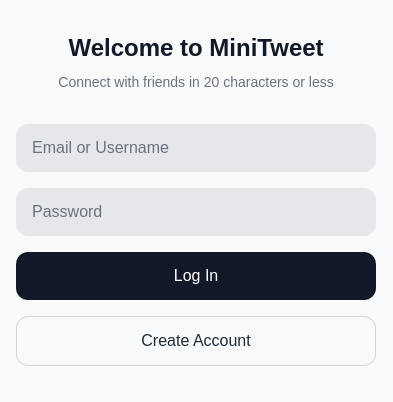
it: LoginView.vue › displays error message when login fails
In the field with placeholder "Email or Username": (196, 148) [16,124,376,172], type "wrong@example.com"
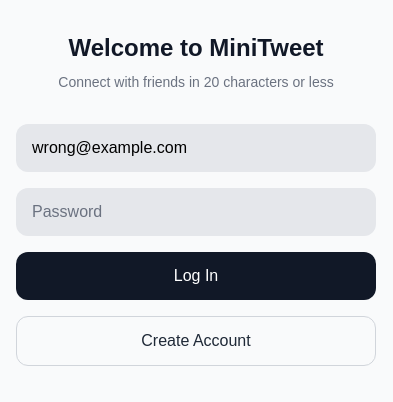
In the password field with placeholder "Password": (196, 212) [16,188,376,236], type "wrongpass"
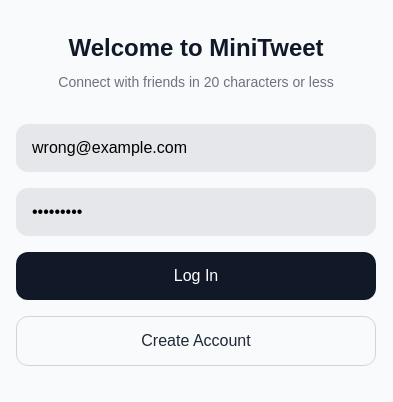
Submit the form, box [16,124,376,366]
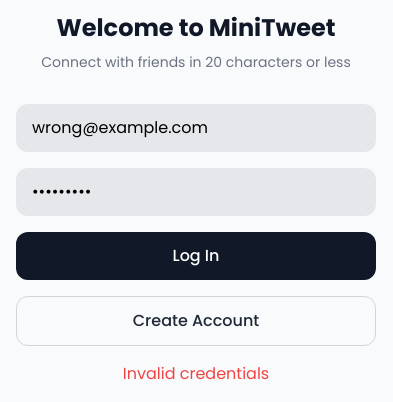
expect the text "Invalid credentials" is shown: met, box [123,362,269,385]
